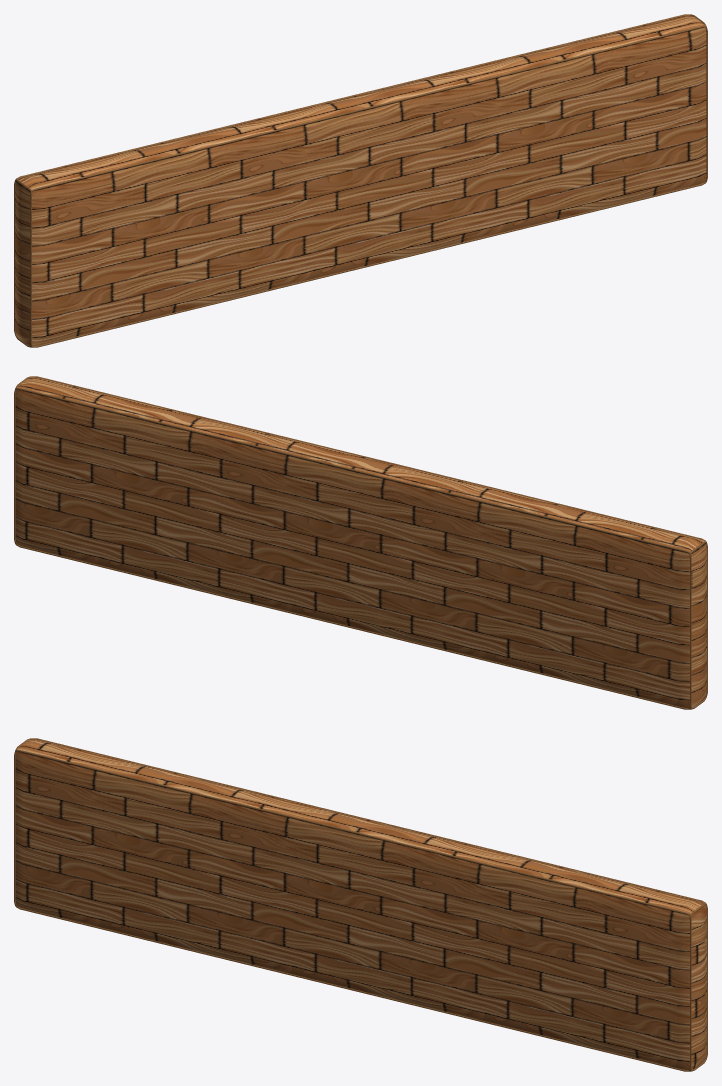
Rendered from SM_SoftFoam_Wall_20_1x4M.fbx.
The picture shows the model from 3 angles, top to bottom: view 1: azimuth 30°, elevation 25°; view 2: azimuth 150°, elevation 25°; view 3: azimuth 330°, elevation 25°; orthographic projection.
Parts seen in each view (by area): view 1: SM_SoftFoam_Wall_20_1x4; view 2: SM_SoftFoam_Wall_20_1x4; view 3: SM_SoftFoam_Wall_20_1x4.
Boxes of the visible parts, box(x1,y1,x2,y2) form: SM_SoftFoam_Wall_20_1x4: box(14, 14, 707, 347); SM_SoftFoam_Wall_20_1x4: box(14, 376, 707, 709); SM_SoftFoam_Wall_20_1x4: box(14, 738, 707, 1071).
Size of the model in its own units: 390 by 90 by 20.
